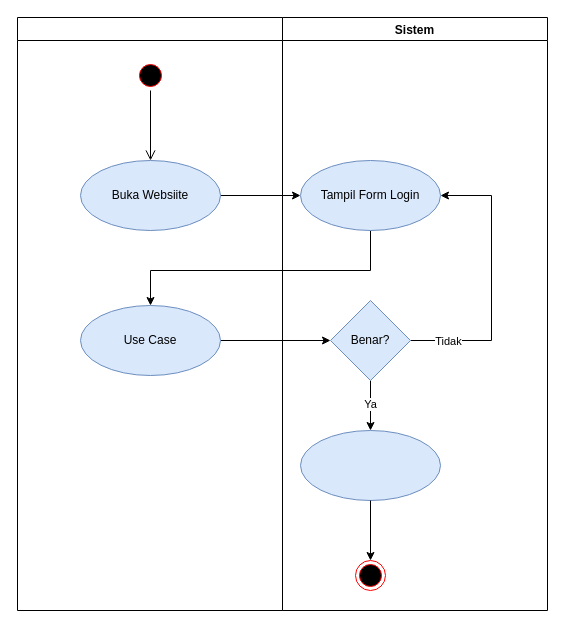
Some shapes in this 565 by 628 pixel diagram are drawn without their labels. The centre of each missing label's shape, as x and y in pixels:
Admin/Siswa: point 149,313
Tampil Menu Utama: point 370,465
